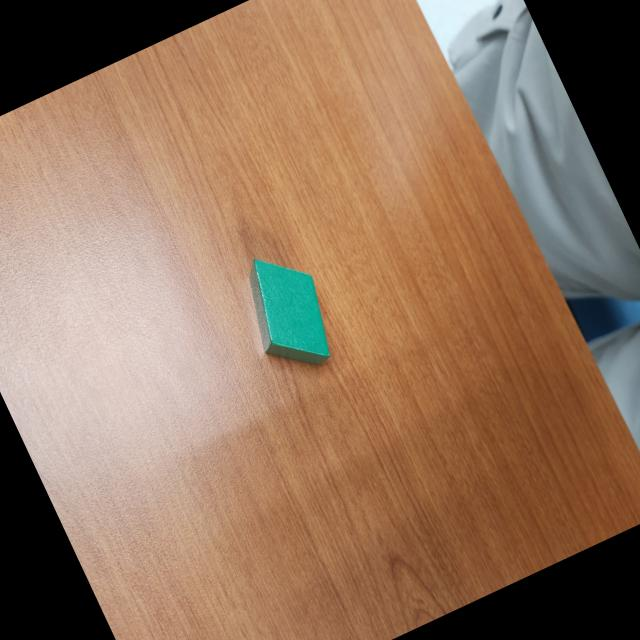green: (228, 239, 352, 385)
